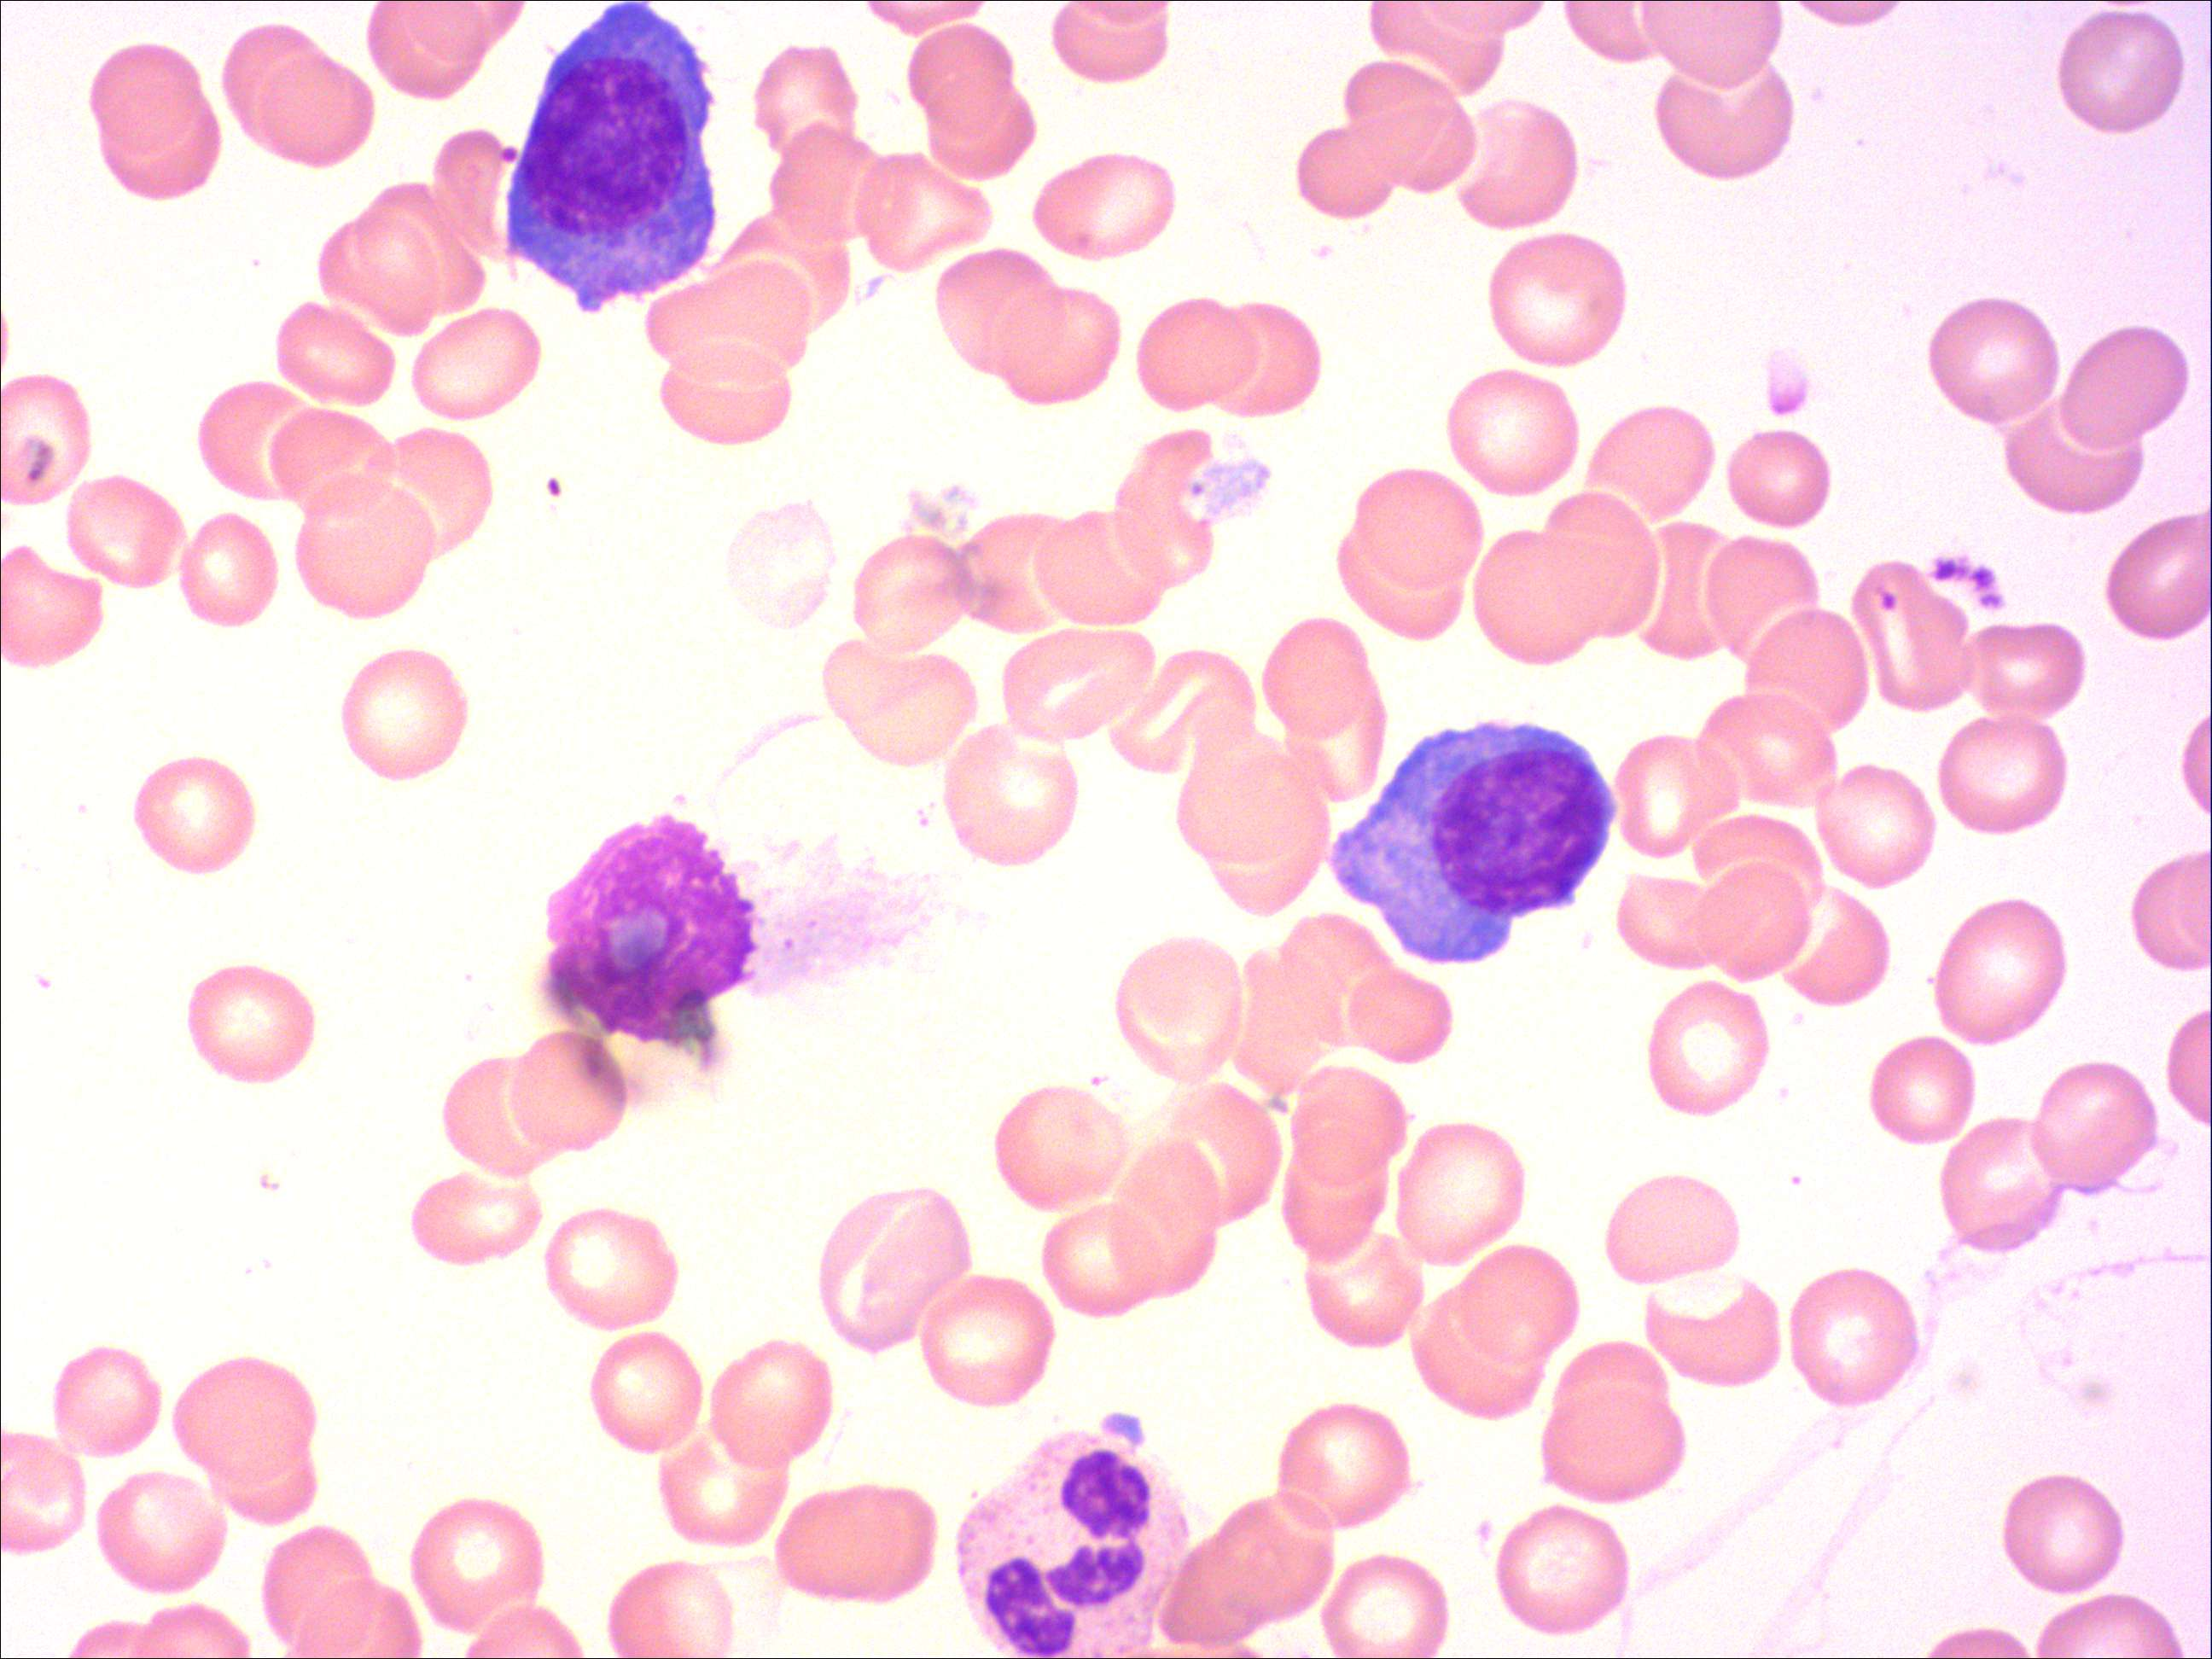51: (1322, 713, 1620, 972), (498, 0, 725, 319)
x: (531, 805, 772, 1054), (954, 1422, 1197, 1659)
